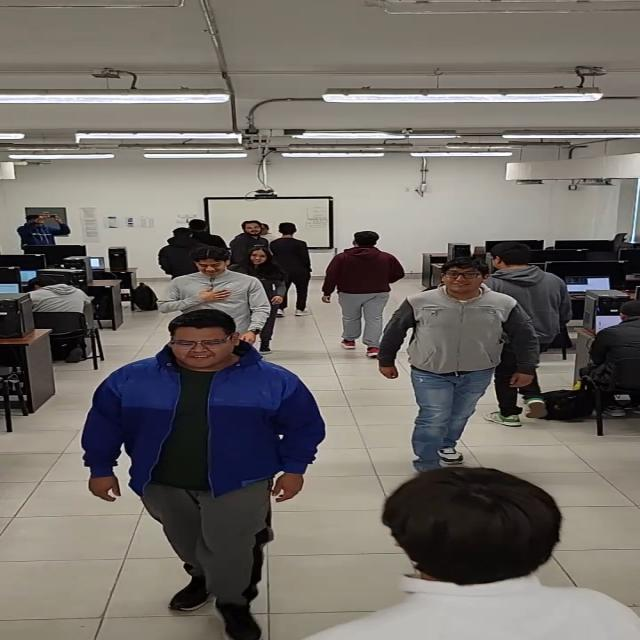Persona: (98, 310, 310, 640), (316, 468, 640, 640), (390, 259, 504, 467), (493, 238, 568, 427), (323, 228, 395, 358), (176, 243, 264, 332), (276, 216, 313, 316)
